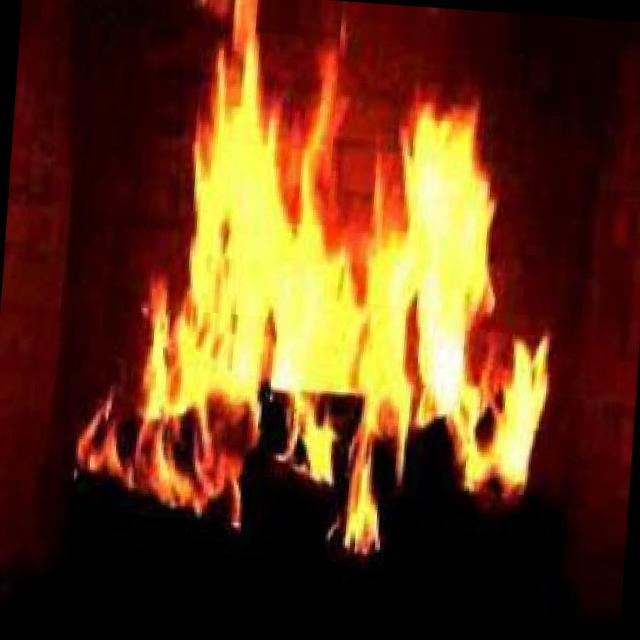Fire: (58, 0, 582, 584)
